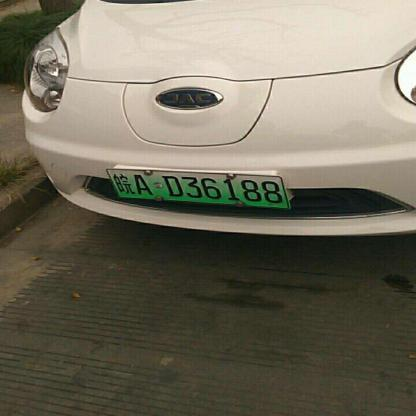lp: (108, 169, 288, 206)
